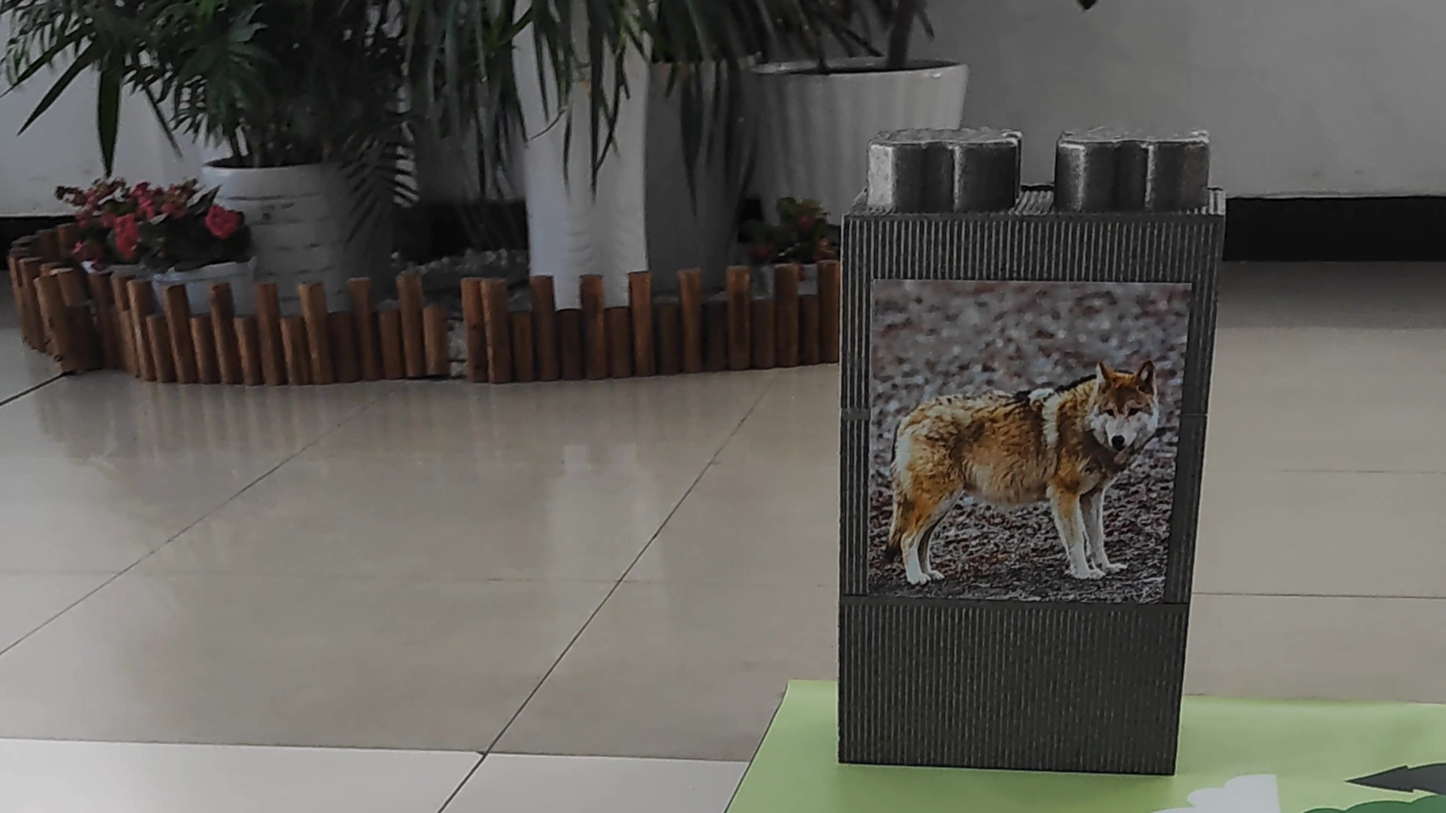wolf: (876, 337, 1170, 622)
